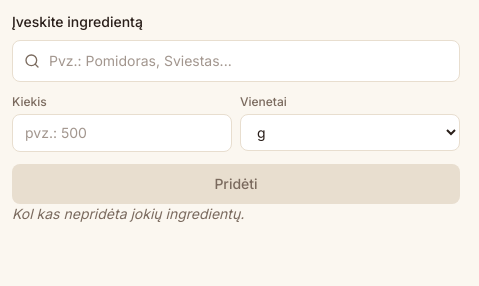
Test case: Integracinis testas 2: Ingrediento šalinimas ir redagavimas (IngredientList → IngredientInput) › 1 atvejis: pašalinus ingredientą iš IngredientList, jis vėl siūlomas IngredientInput dropdown
Type "Pomid" into the dropdown labelled "Įveskite ingredientą" at (236, 61), box [12, 40, 460, 82]
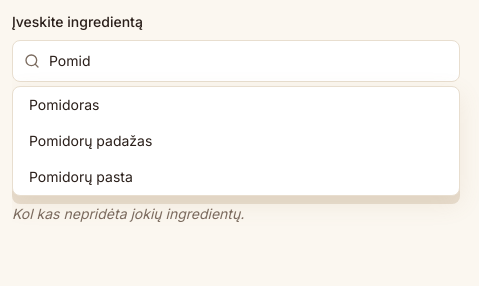
Press the mouse on the option "Pomidoras" at (64, 104), box [29, 96, 99, 113]
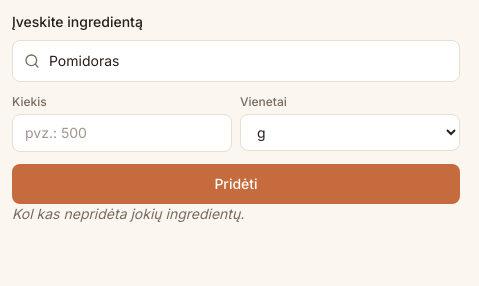
Click the button "Pridėti" at (236, 184), box [12, 164, 460, 204]
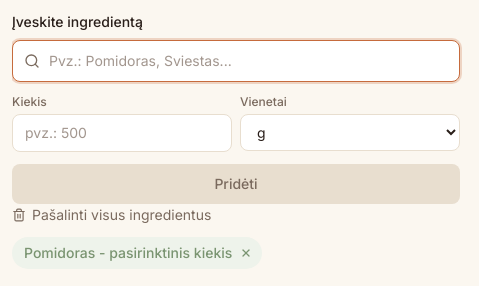
Result: the button "Pomidoras - pasirinktinis kiekis" is shown at [24, 243, 232, 263]
Click the button named "pašalinti pomidoras" at (246, 253), box [236, 243, 256, 263]
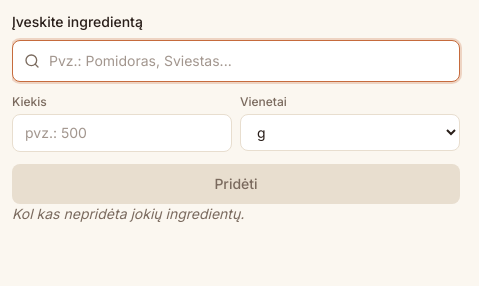
Type "Pomid" into the dropdown labelled "Įveskite ingredientą" at (236, 61), box [12, 40, 460, 82]
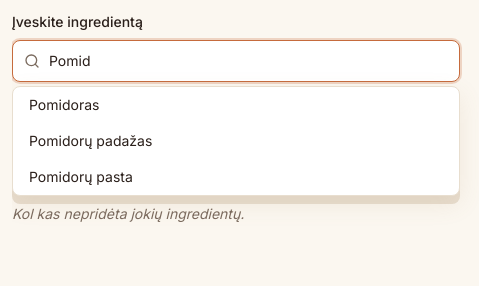
Result: the option "Pomidoras" is shown at [29, 96, 99, 113]
